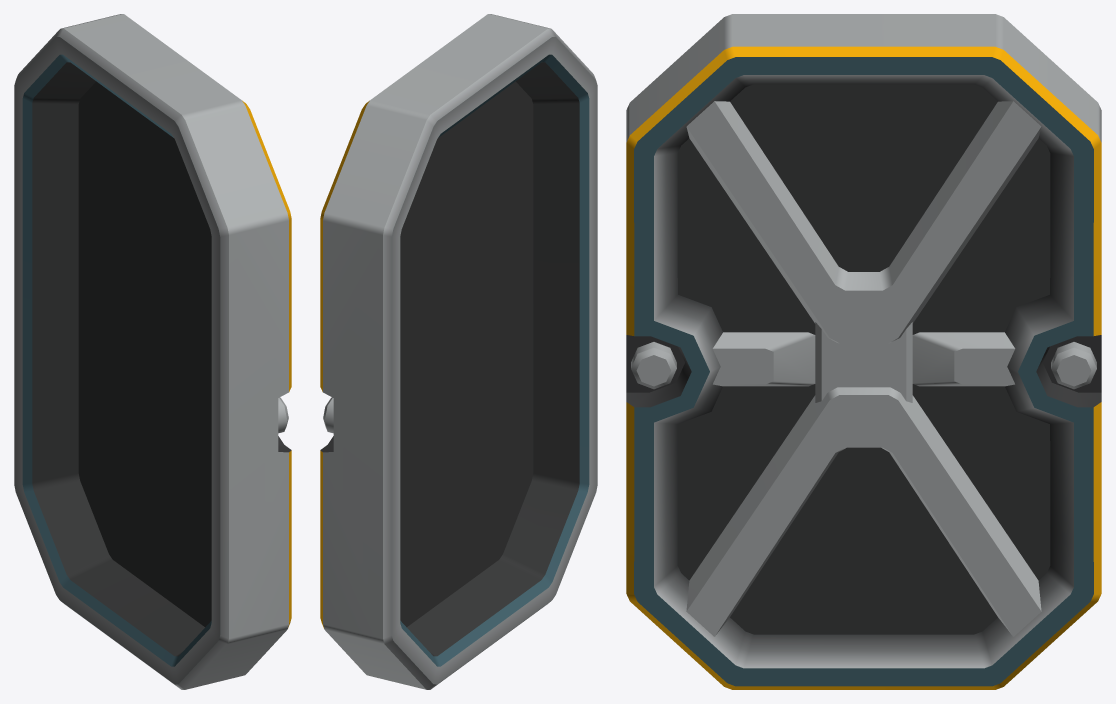
The model's file is Crate_001_002.fbx.
3 views of the same model, side by side, from view 1: azimuth 30°, elevation 25°; view 2: azimuth 150°, elevation 25°; view 3: azimuth 270°, elevation 25° (orthographic). The views are drawn at different scales.
Visible parts, largest first — view 1: Crate_001_002; view 2: Crate_001_002; view 3: Crate_001_002.
Part boxes in pixels (bbox=[...]): Crate_001_002: bbox=[14, 14, 291, 689]; Crate_001_002: bbox=[320, 14, 597, 689]; Crate_001_002: bbox=[626, 14, 1101, 689].
Size of the model in its own units: 9.42 by 48.25 by 72.08.
